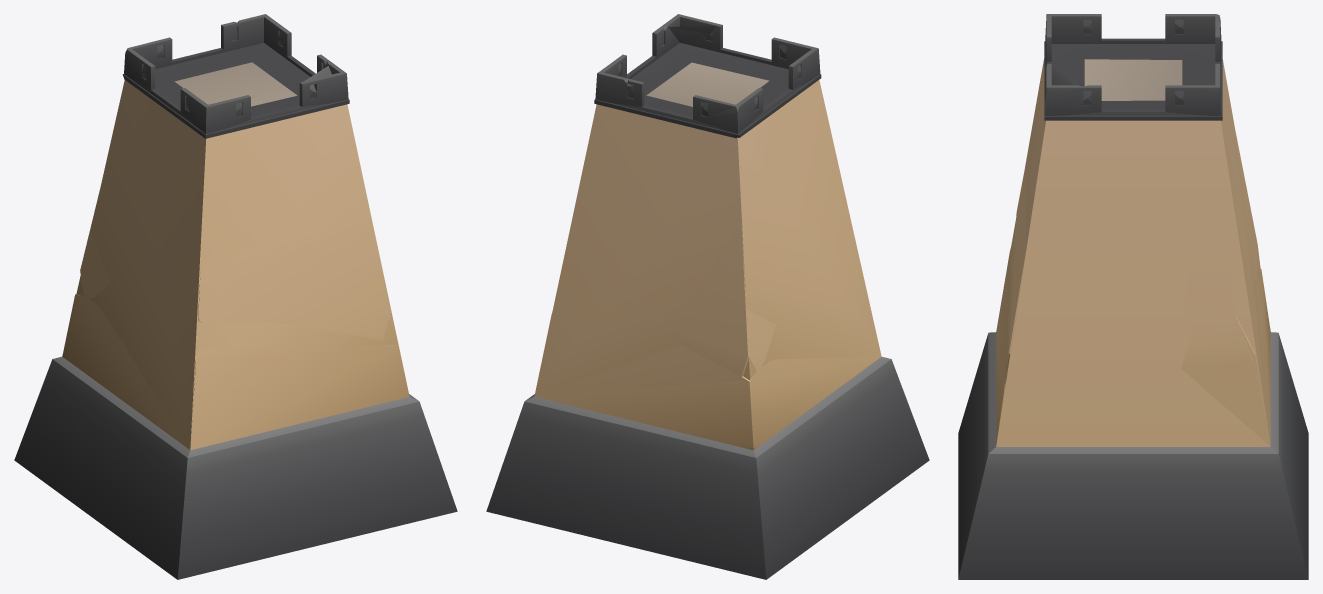
The model's file is Fort Tower 01.fbx.
3 renders of one model, left to right at view 1: azimuth 30°, elevation 25°; view 2: azimuth 150°, elevation 25°; view 3: azimuth 270°, elevation 25°, orthographic. The views are drawn at different scales.
Visible parts, largest first — view 1: Fort Tower 01, Fort Tower 01 low, Fort Tower 01 high; view 2: Fort Tower 01, Fort Tower 01 low, Fort Tower 01 high; view 3: Fort Tower 01 low, Fort Tower 01, Fort Tower 01 high.
Boxes of the visible parts, x1,y1,x2,y2 form: Fort Tower 01: (14,14,457,579); Fort Tower 01 low: (76,26,408,449); Fort Tower 01 high: (122,37,349,323); Fort Tower 01: (486,14,929,579); Fort Tower 01 low: (534,26,881,396); Fort Tower 01 high: (535,74,821,396); Fort Tower 01 low: (996,19,1270,446); Fort Tower 01: (958,14,1308,579); Fort Tower 01 high: (1044,14,1270,443).
Bounding box in the file's own units: 13.98 × 20.28 × 14.13.
1 material, 1 textured.
